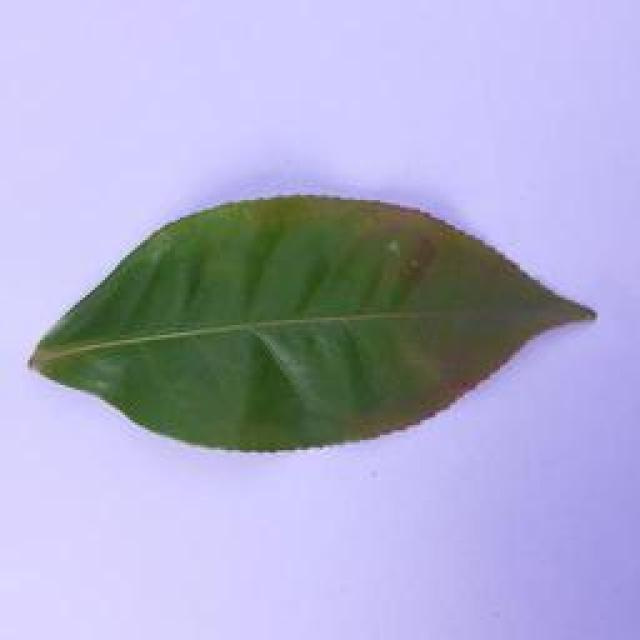Red Leaf Spot: (18, 174, 633, 478)
